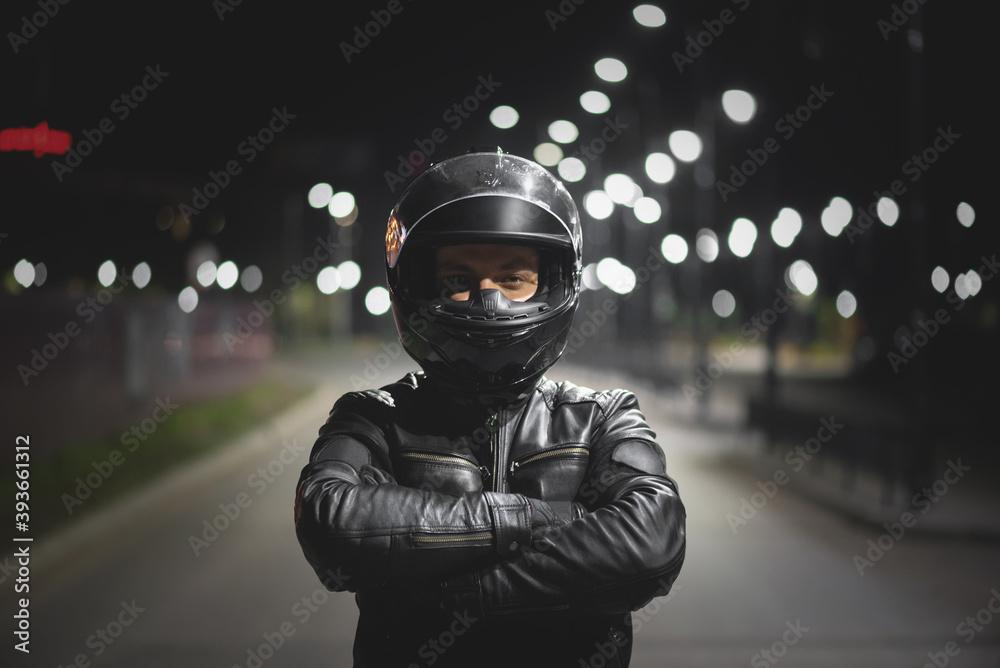helmet: (382, 143, 585, 396)
